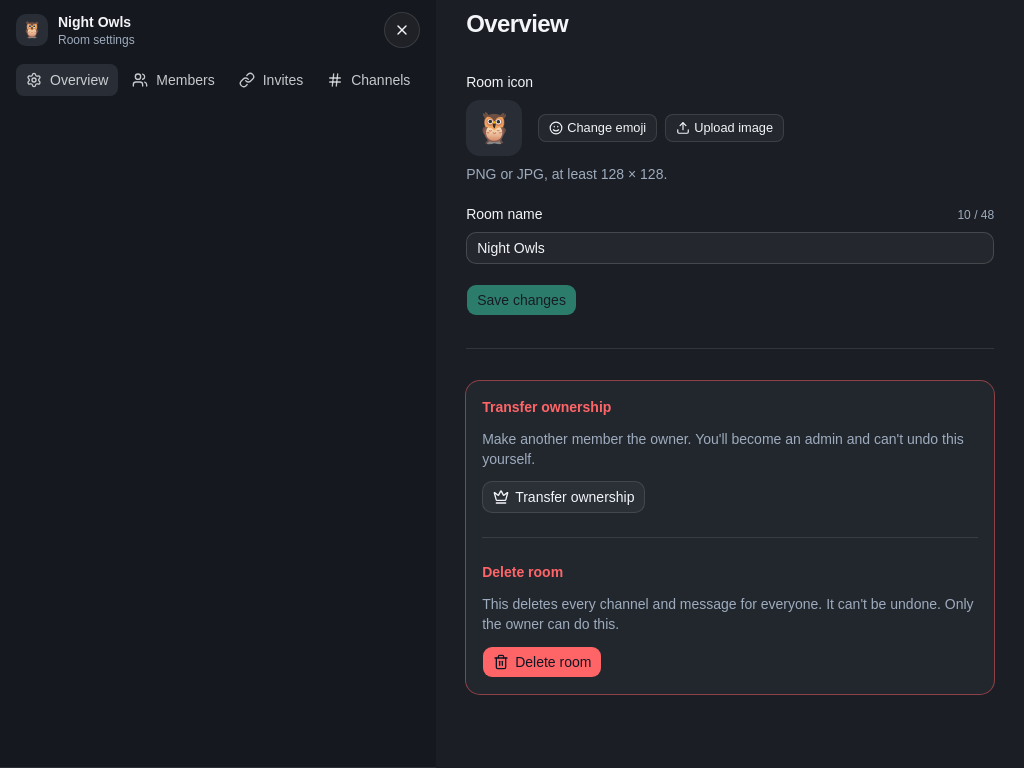
Test case: Overview › picks a new emoji from the popover, updating the preview and enabling Save
The width and height of the screenshot is (1024, 768).
Click the button "Change emoji": (598, 128) [538,114,657,142]
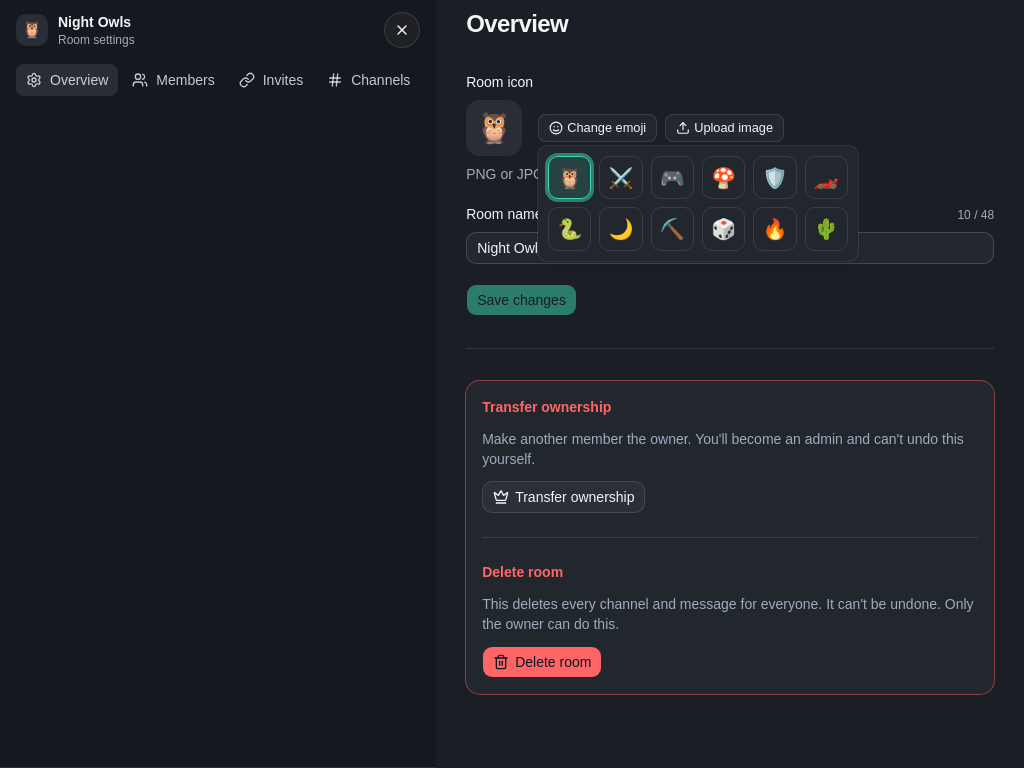
Expected: the number of radio buttons is 12
Expected: the radio button named "Owl" is checked, [548,156,591,199]
Click the radio button named "Fire": (775, 229) [753,207,797,251]
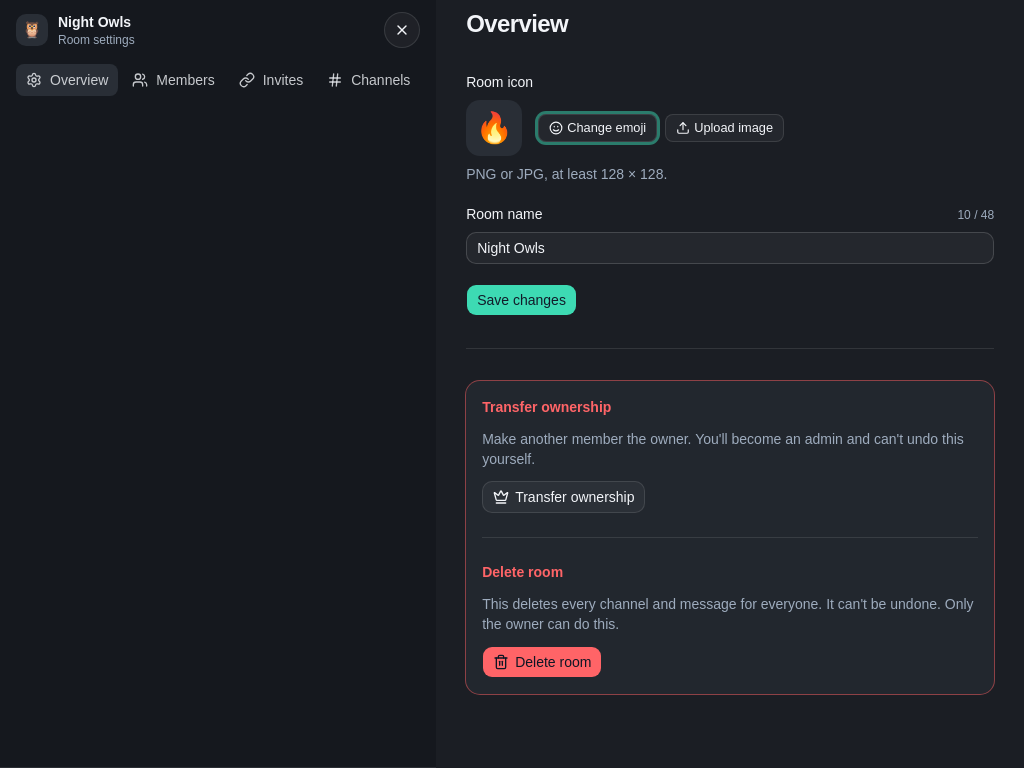
Expected: the button "Save changes" is enabled
Click the button "Save changes": (522, 300) [466,284,577,316]
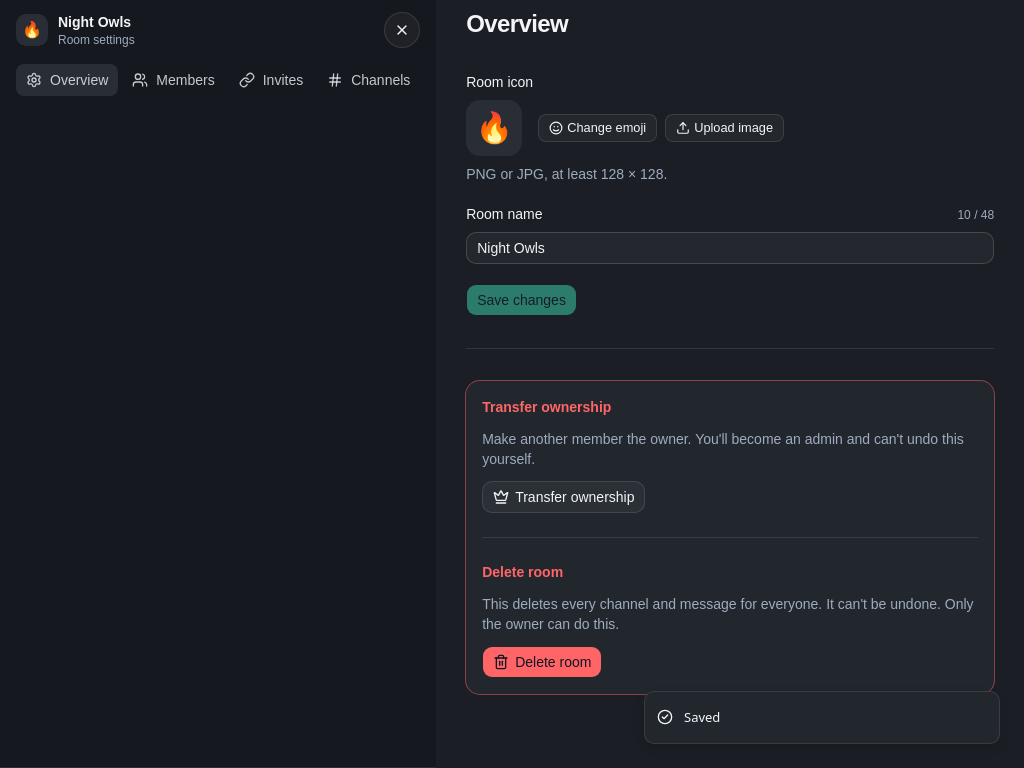
Expected: the text "Saved" is shown, [684,708,720,727]
Expected: the button "Save changes" is disabled, [466,284,577,316]
